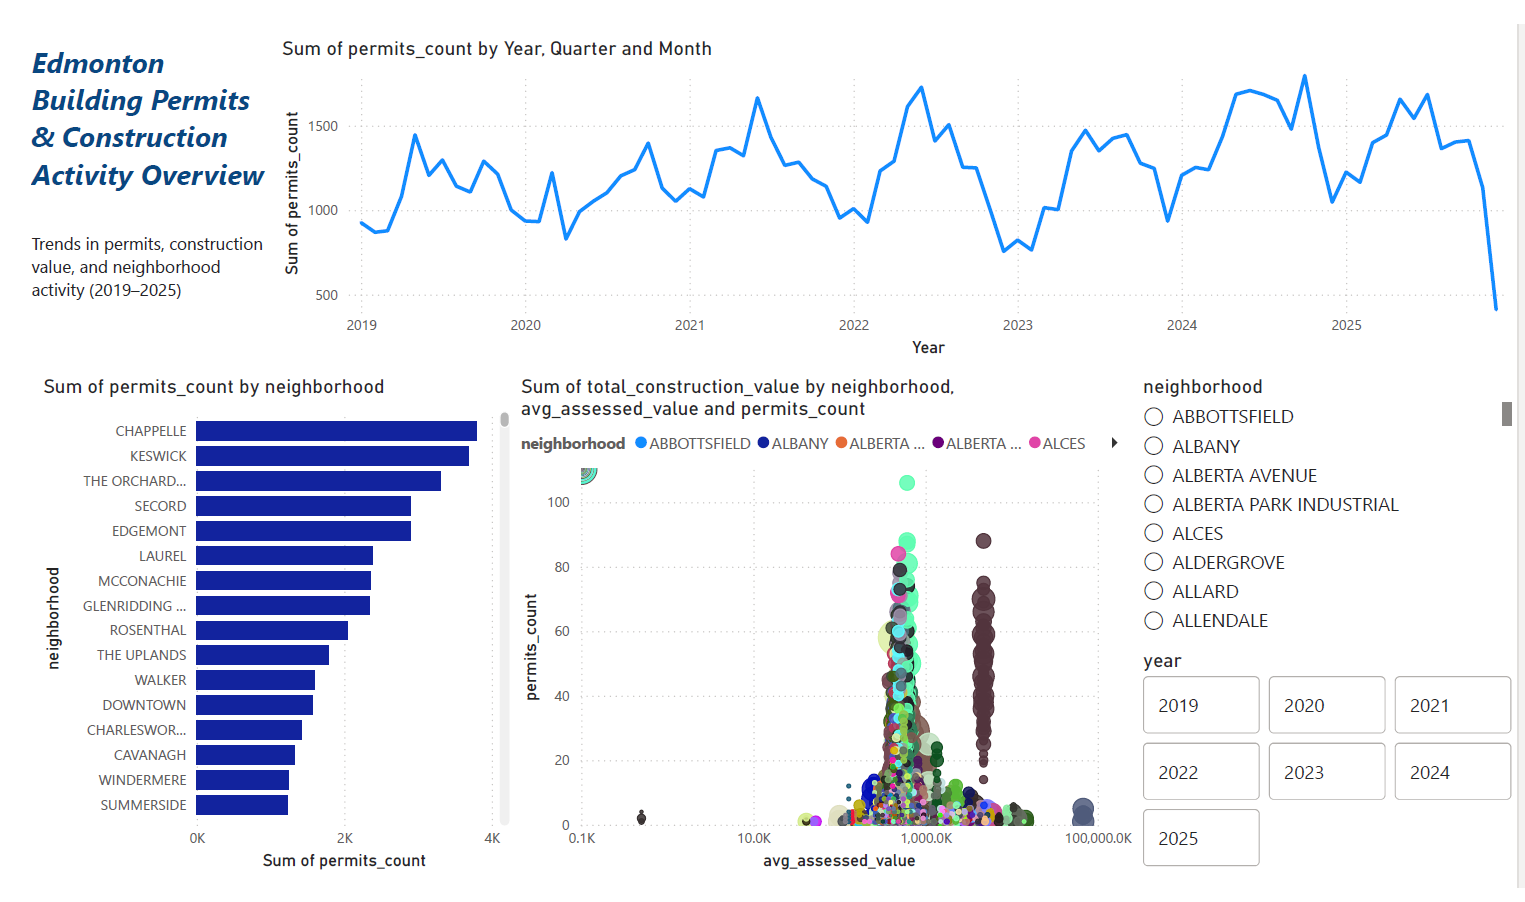

Layout of this report page (visuals, bound fields, positions):
{"tool":"powerbi","page":{"name":"Page 1","canvas":[1280,720],"ordinal":0},"visuals":[{"type":"lineChart","fields":{"Category":["neighborhood_monthly.Date.Variation.Date Hierarchy.Year","neighborhood_monthly.Date.Variation.Date Hierarchy.Quarter","neighborhood_monthly.Date.Variation.Date Hierarchy.Month"],"Y":["Sum(neighborhood_monthly.permits_count)"]},"box":[215,0,1065,280],"z":0},{"type":"clusteredBarChart","fields":{"Category":["neighborhood_monthly.neighborhood"],"Y":["Sum(neighborhood_monthly.permits_count)"]},"box":[9.6,289.5,410.3,430.9],"z":1000},{"type":"scatterChart","fields":{"X":["neighborhood_monthly.avg_assessed_value"],"Y":["neighborhood_monthly.permits_count"],"Size":["Sum(neighborhood_monthly.total_construction_value)"],"Series":["neighborhood_monthly.neighborhood"]},"box":[419.9,289.5,533.8,430.9],"z":2000},{"type":"listSlicer","fields":{"Values":["neighborhood_monthly.neighborhood"]},"box":[953.7,289.5,326.6,234.6],"z":3000},{"type":"advancedSlicerVisual","fields":{"Values":["neighborhood_monthly.year"]},"box":[954,525,326,195],"z":4000},{"type":"textbox","box":[0,0,215,280],"z":5000}]}

Visuals, with their boxes on the page's 1280x720 design canvas (x1, y1, x2, y2). These are canvas units, not pixel positions in the 1525x902 screenshot, which may show the page scaled, cropped or inside an application window:
lineChart - neighborhood_monthly.Date.Variation.Date Hierarchy.Year x neighborhood_monthly.Date.Variation.Date Hierarchy.Quarter: box=[215, 0, 1280, 280]
clusteredBarChart - neighborhood_monthly.neighborhood x Sum(neighborhood_monthly.permits_count): box=[10, 290, 420, 720]
scatterChart - neighborhood_monthly.avg_assessed_value x neighborhood_monthly.permits_count: box=[420, 290, 954, 720]
listSlicer - neighborhood_monthly.neighborhood: box=[954, 290, 1280, 524]
advancedSlicerVisual - neighborhood_monthly.year: box=[954, 525, 1280, 720]
textbox: box=[0, 0, 215, 280]
